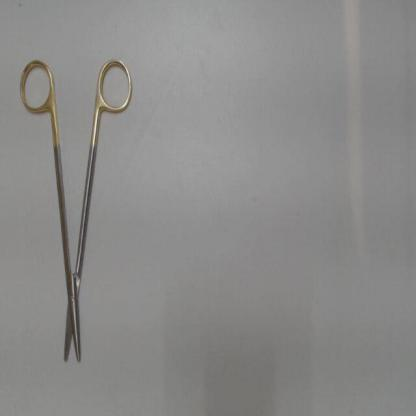7 Metzenbaum Scissors: (17, 52, 136, 368)
